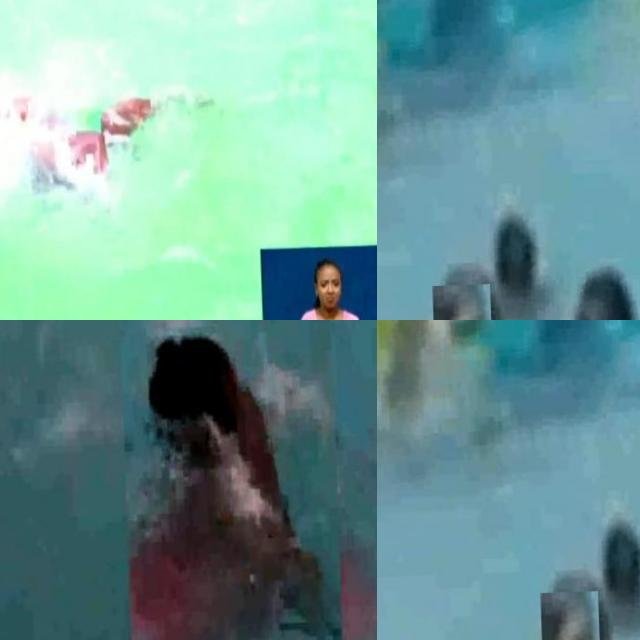drowning: (118, 320, 344, 640), (491, 194, 560, 298), (599, 500, 640, 605)
swimming: (0, 71, 224, 216), (540, 590, 607, 640)
